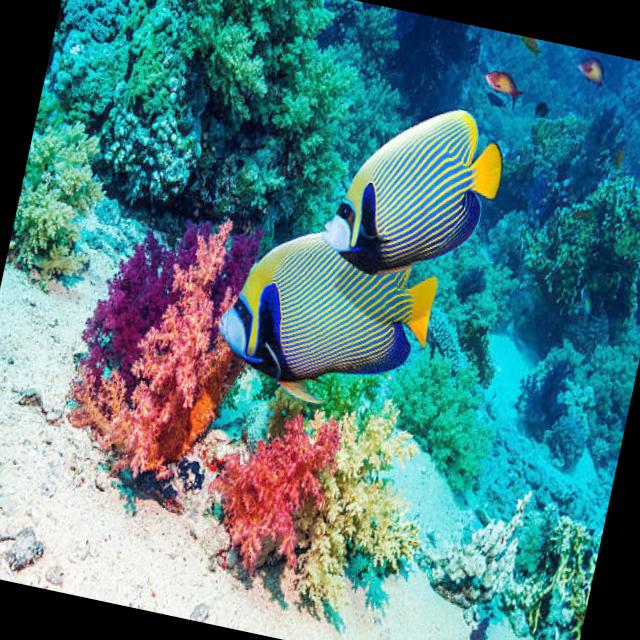AngelFish: (210, 218, 441, 402), (318, 89, 513, 292)
